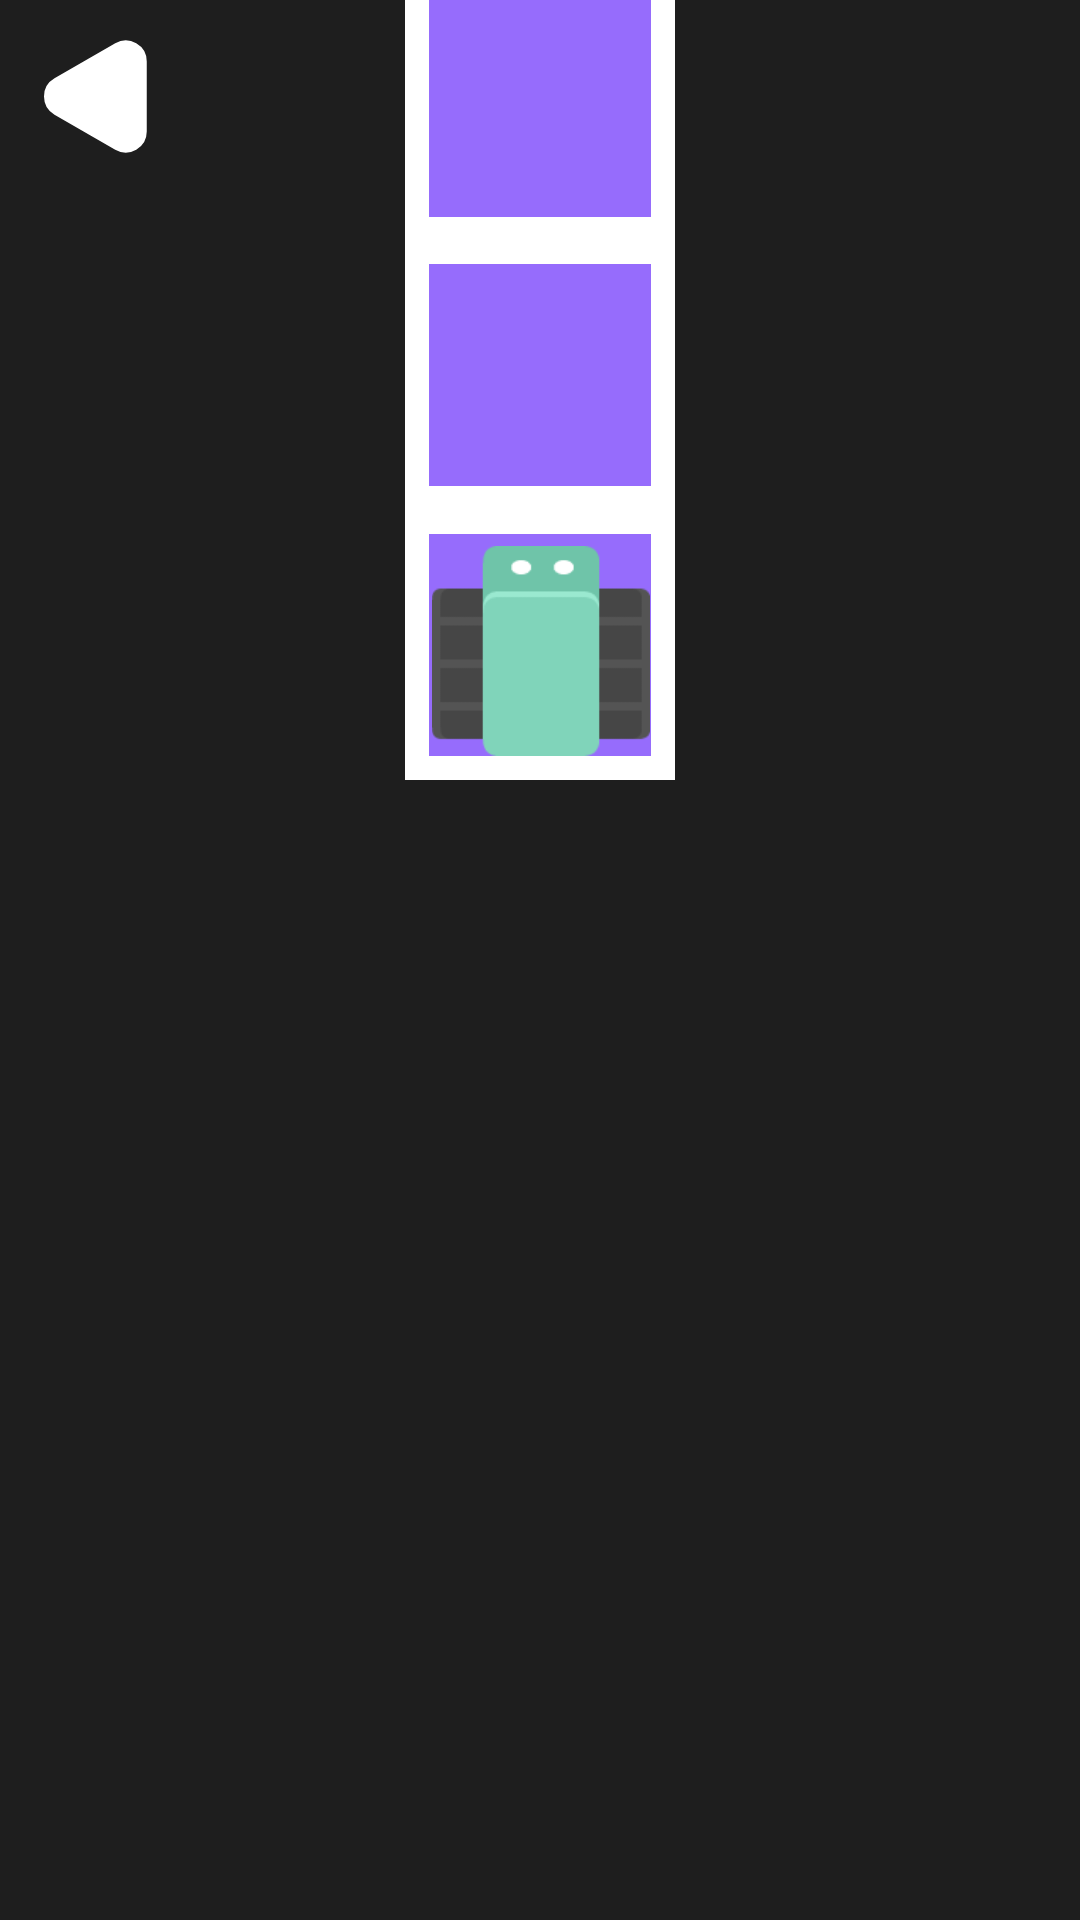

Icon click points for this 1080*1920 phone screenshot, format (x,y):
Boton para ir a la pantalla anterior: (95,96)
